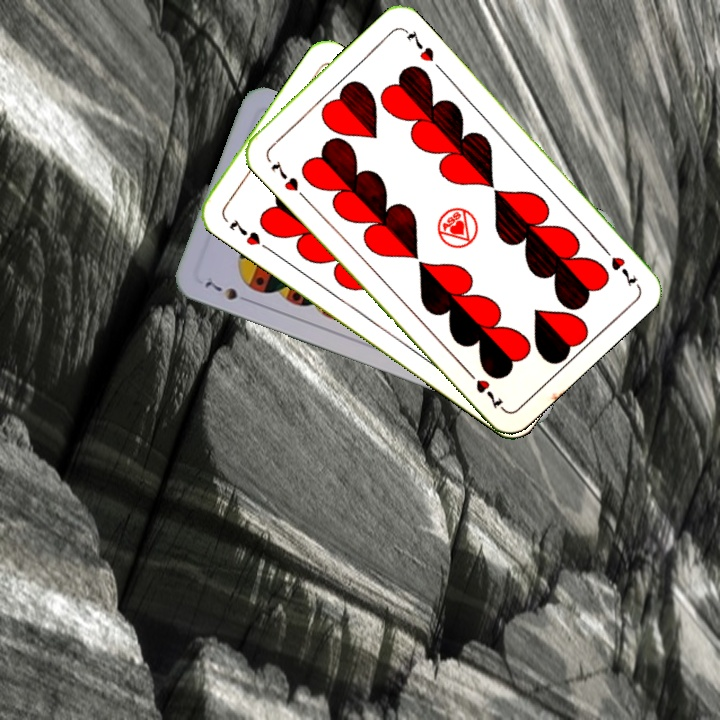H7: (596, 240, 640, 289), (266, 156, 309, 202), (225, 214, 263, 248)
S7: (200, 277, 255, 306)
